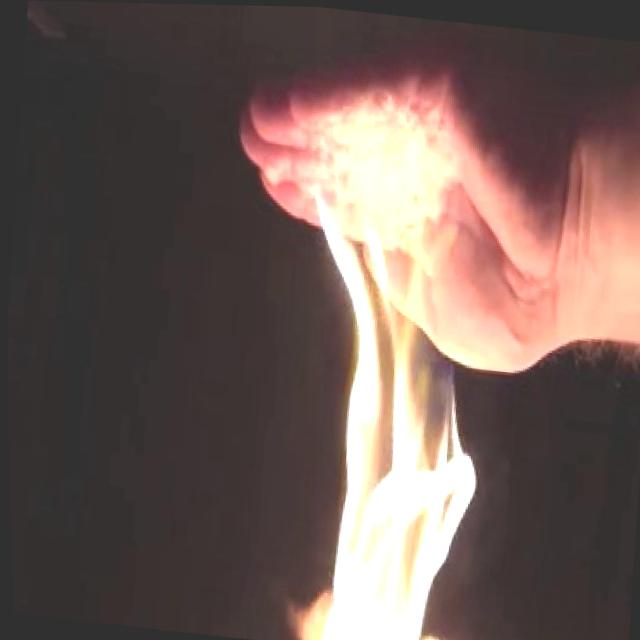Fire: (267, 158, 516, 640)
